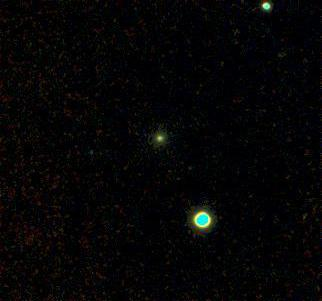star: (143, 126, 173, 156)
